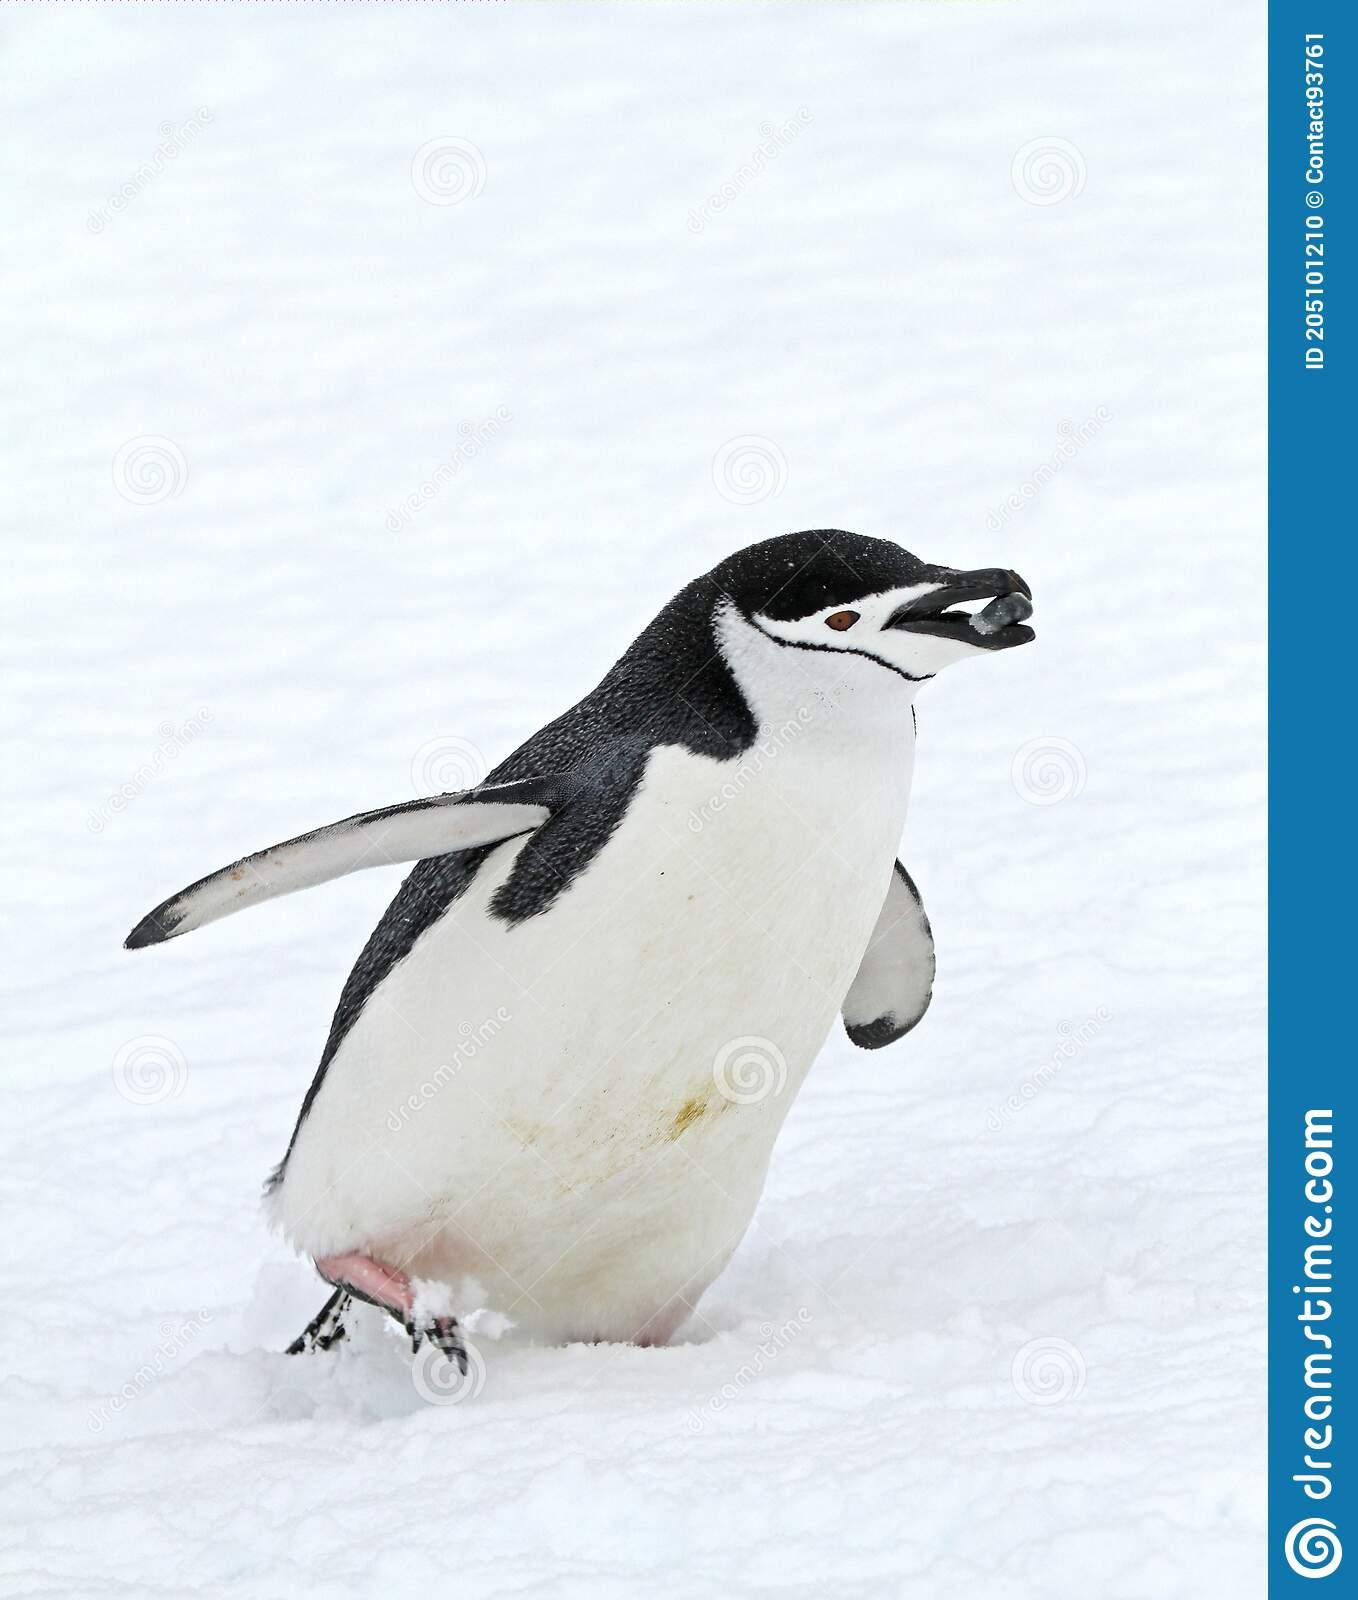chinstrap: (112, 510, 1109, 1452)
